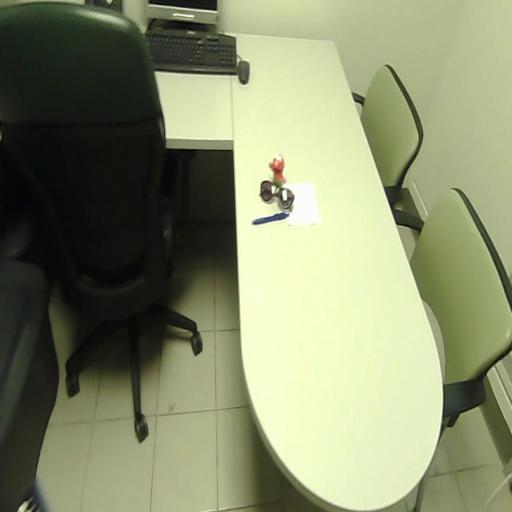pen: (252, 212, 290, 225)
